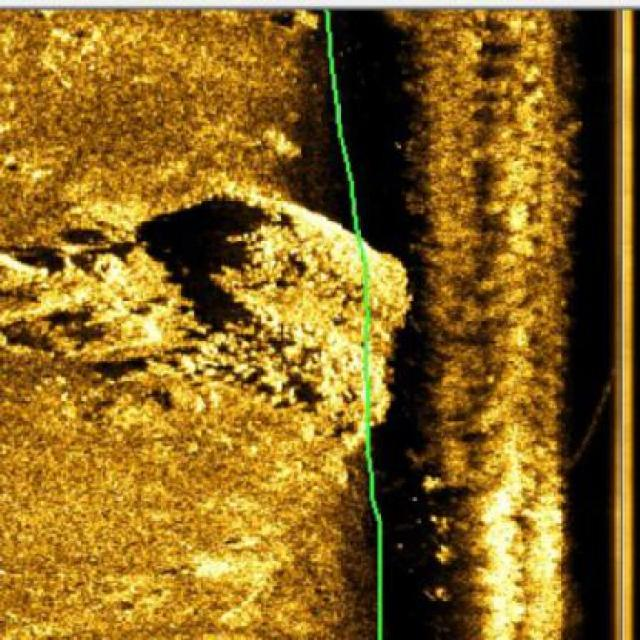bedrock group: (0, 190, 411, 441)
